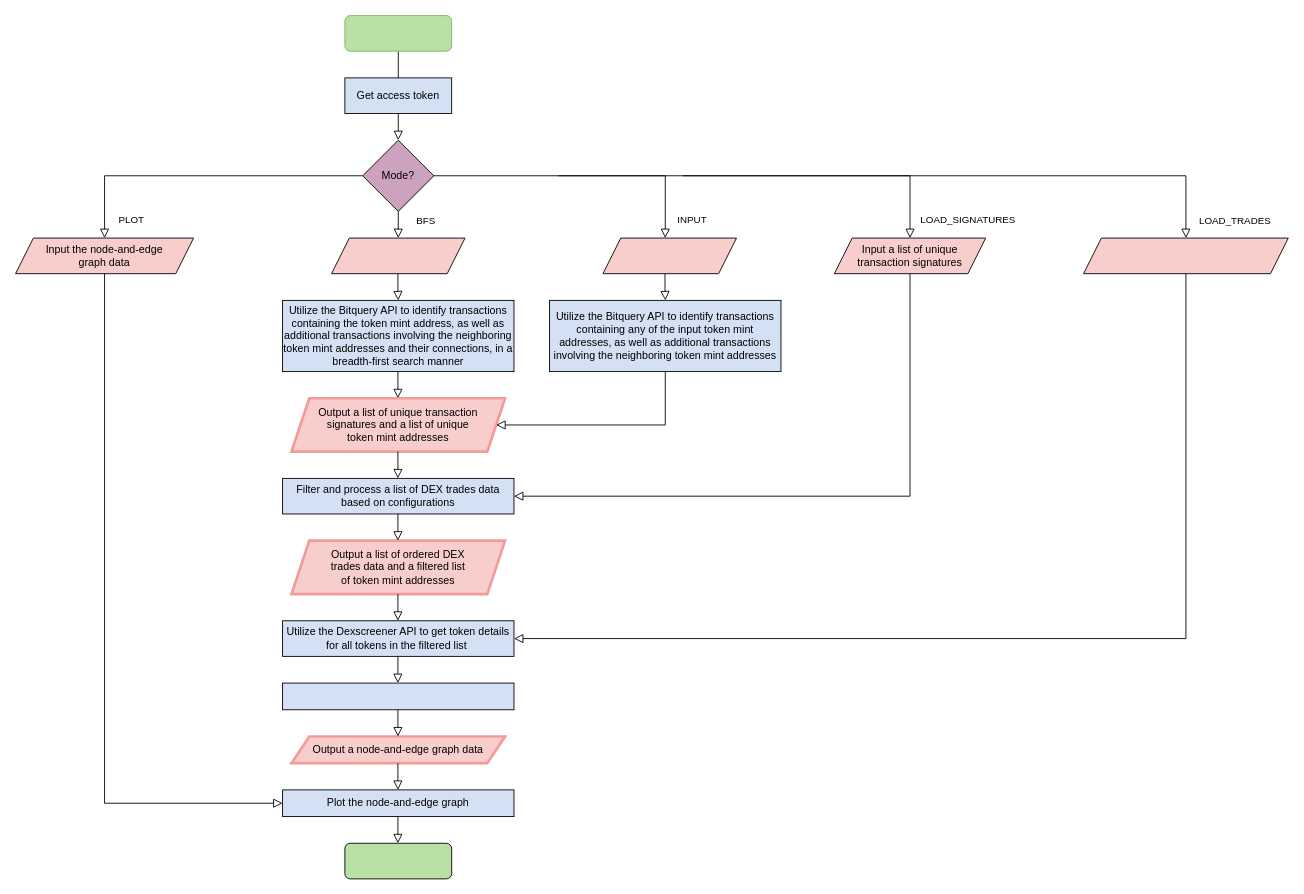
Image size: 1304x894. Some labels were removed from this diagram. The shapes that lost their labels are listed below. From the top down, each one's centre as x and y in pixels, then its label:
[398,33]: Start
[398,255]: Input a token mint address
[669,255]: Input a list of token mint address
[1185,255]: Input a list of DEX trades data and a list of token mint addresses
[398,696]: Process the ordered DEX trades data
[398,860]: End
